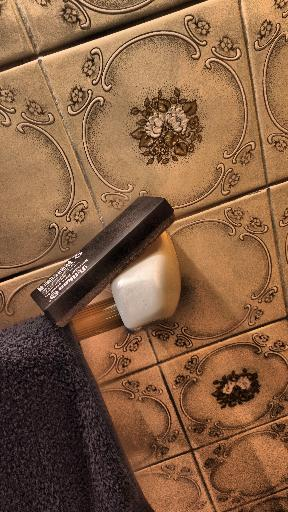borrador: (31, 197, 174, 326)
